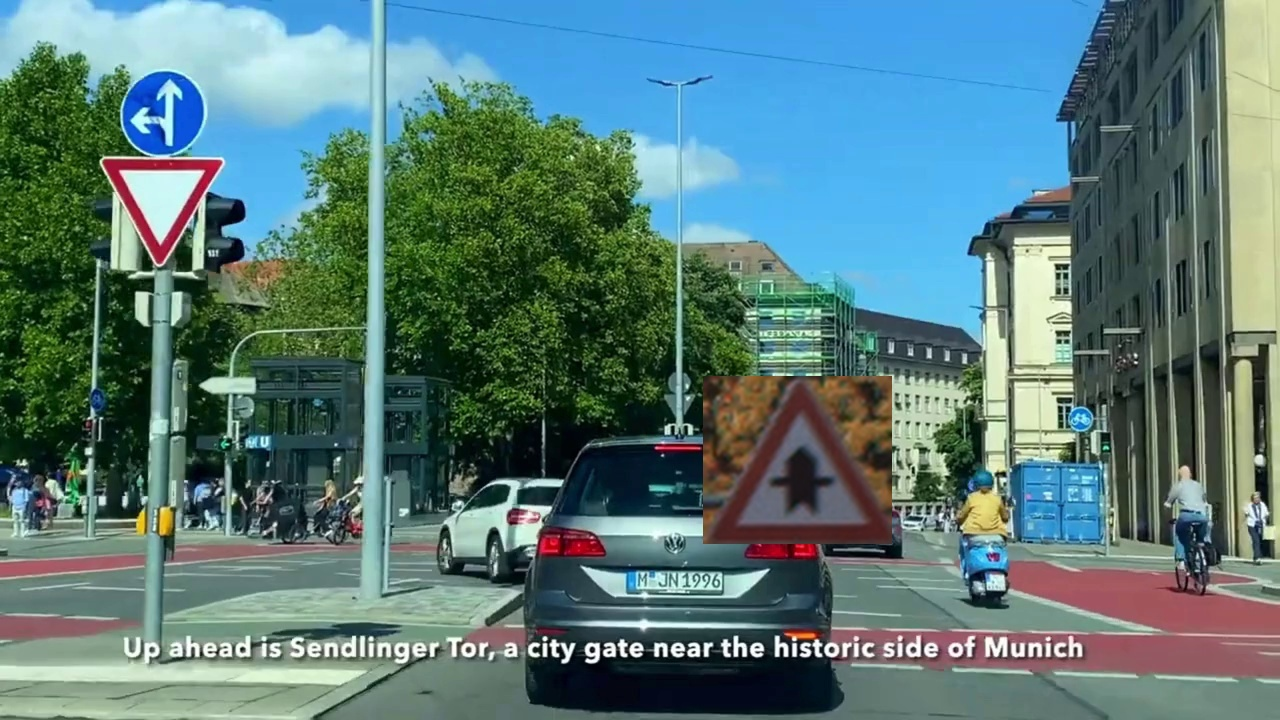Right-of-way: (703, 376, 892, 544)
